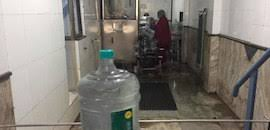Bisleri: (111, 112, 136, 129)
